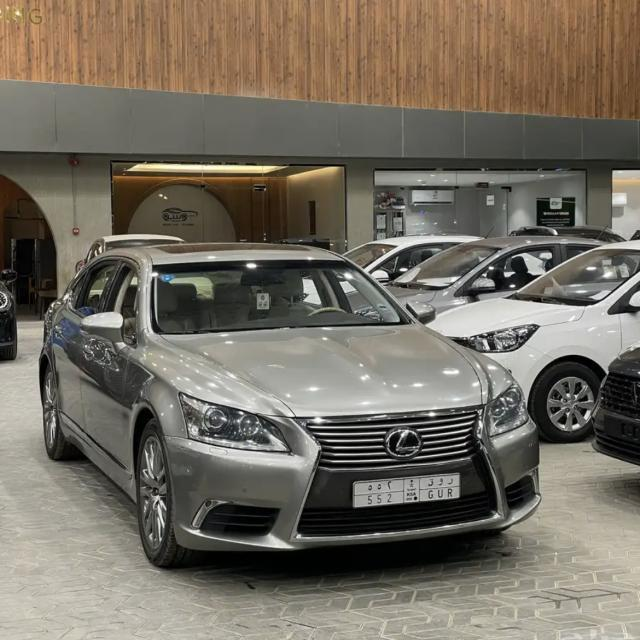license_plate: (352, 473, 462, 502)
